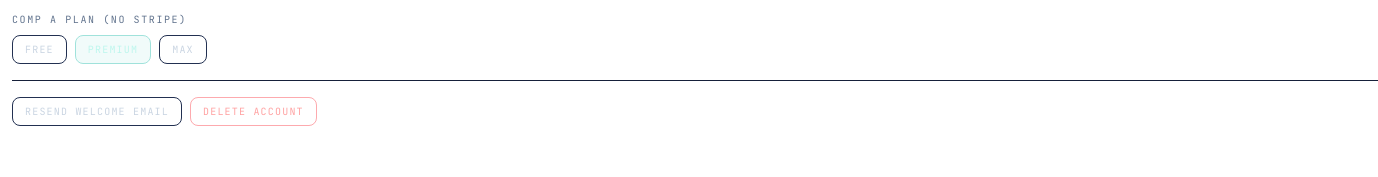
UserActions plan controls › says revoked when dropping to free
Click the button "free" at (39, 50), box [12,35,67,64]
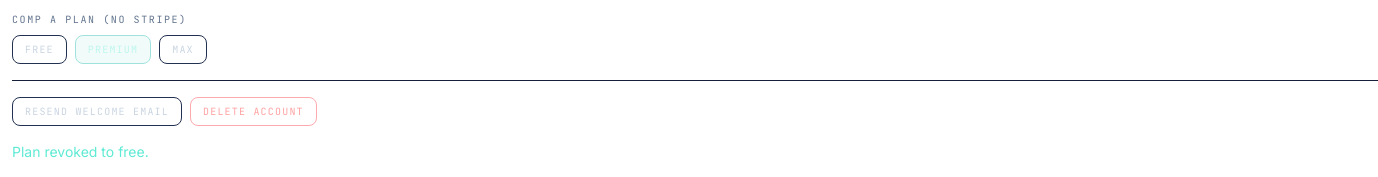
Result: the text "Plan revoked to free." is shown at [12,143,149,160]
